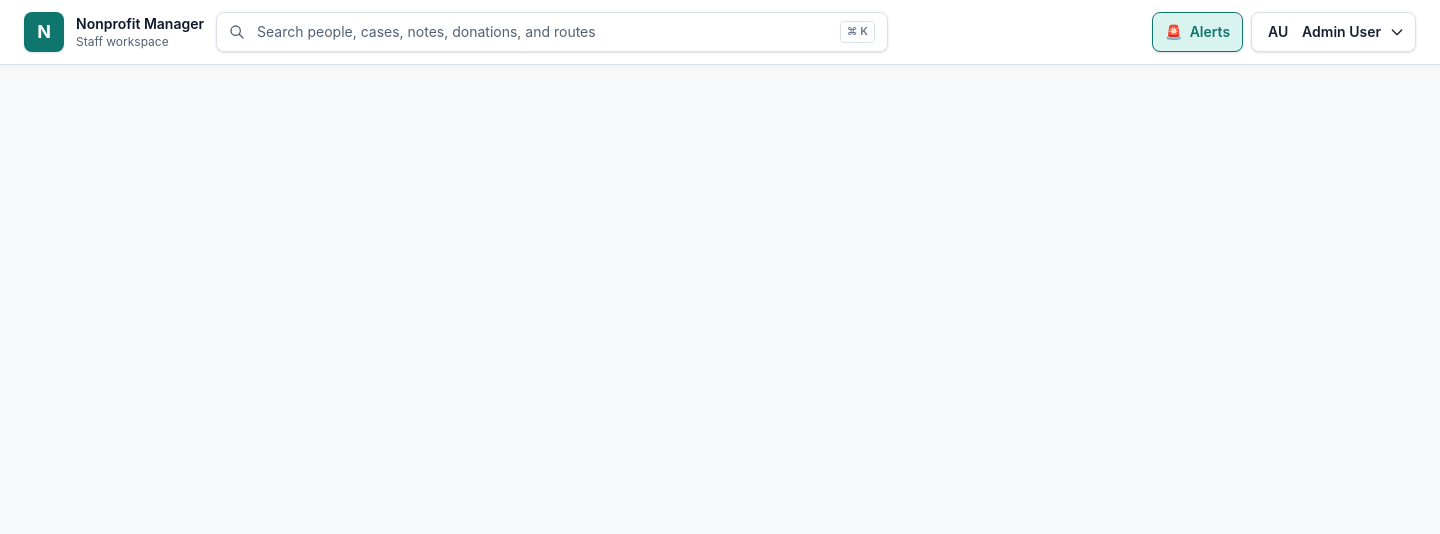
Test: Navigation › renders theme controls and admin actions inside the account menu
Step 1. Click the button with aria-label "user menu" → (1334, 32), box [1251,12,1416,52]
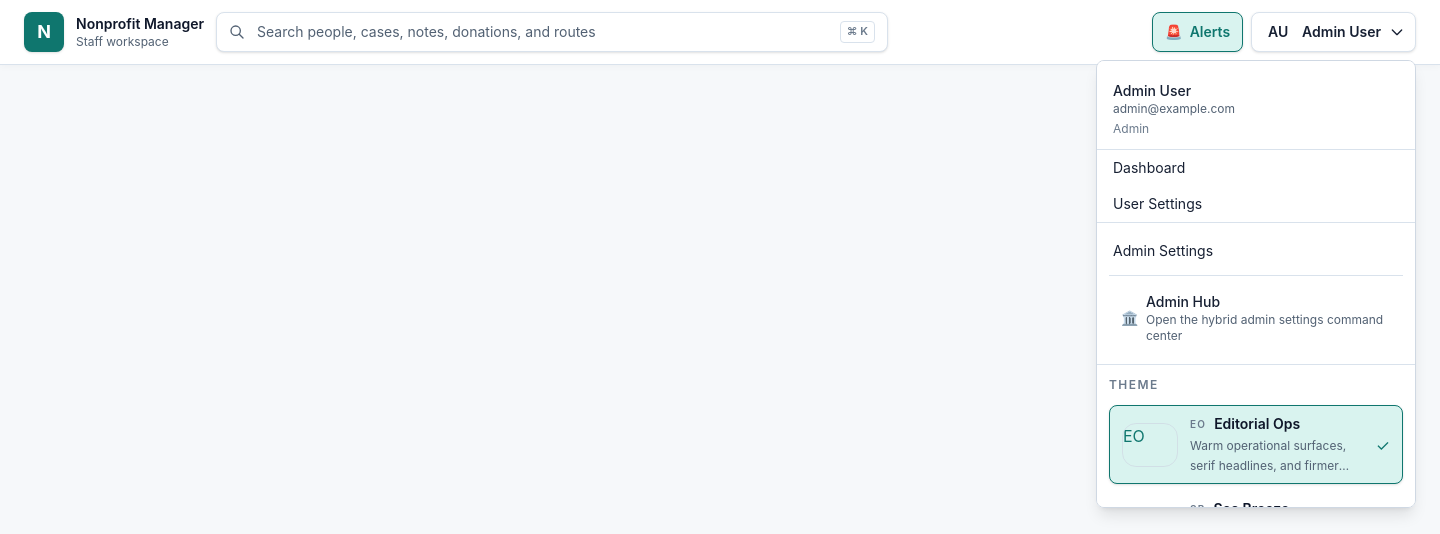
expect the button "Editorial Ops" is shown: met, box [1109,405,1403,484]
expect the text "Warm operational surfaces, serif headlines" is shown: met, box [1190,438,1346,492]
